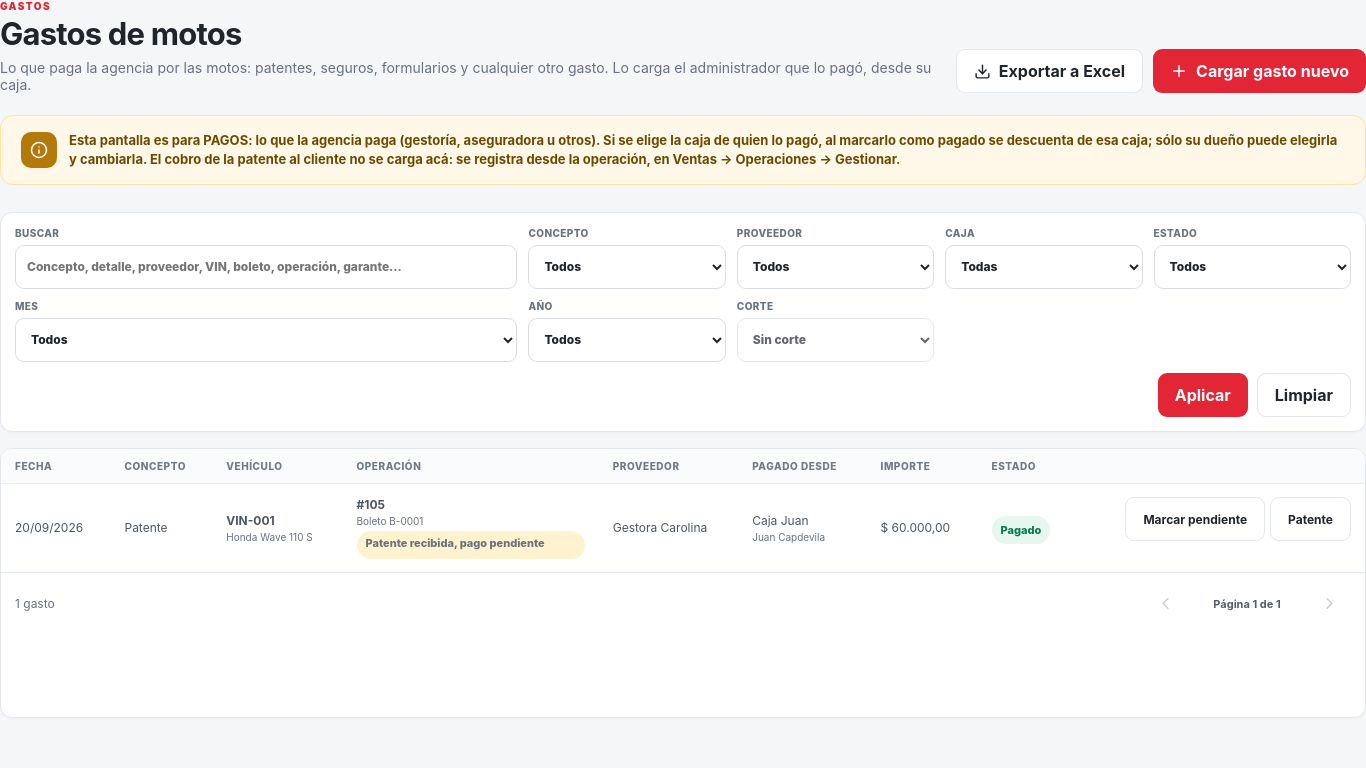
Scenario: Pagos de vehículo (fase 5) › abre la carga de patente de la operación desde la fila
Check: the table is shown, box [1,449,1365,572]
Click the button with aria-label "Patente de la operación #105" at coordinates (1311, 519), box [1270,497,1351,541]
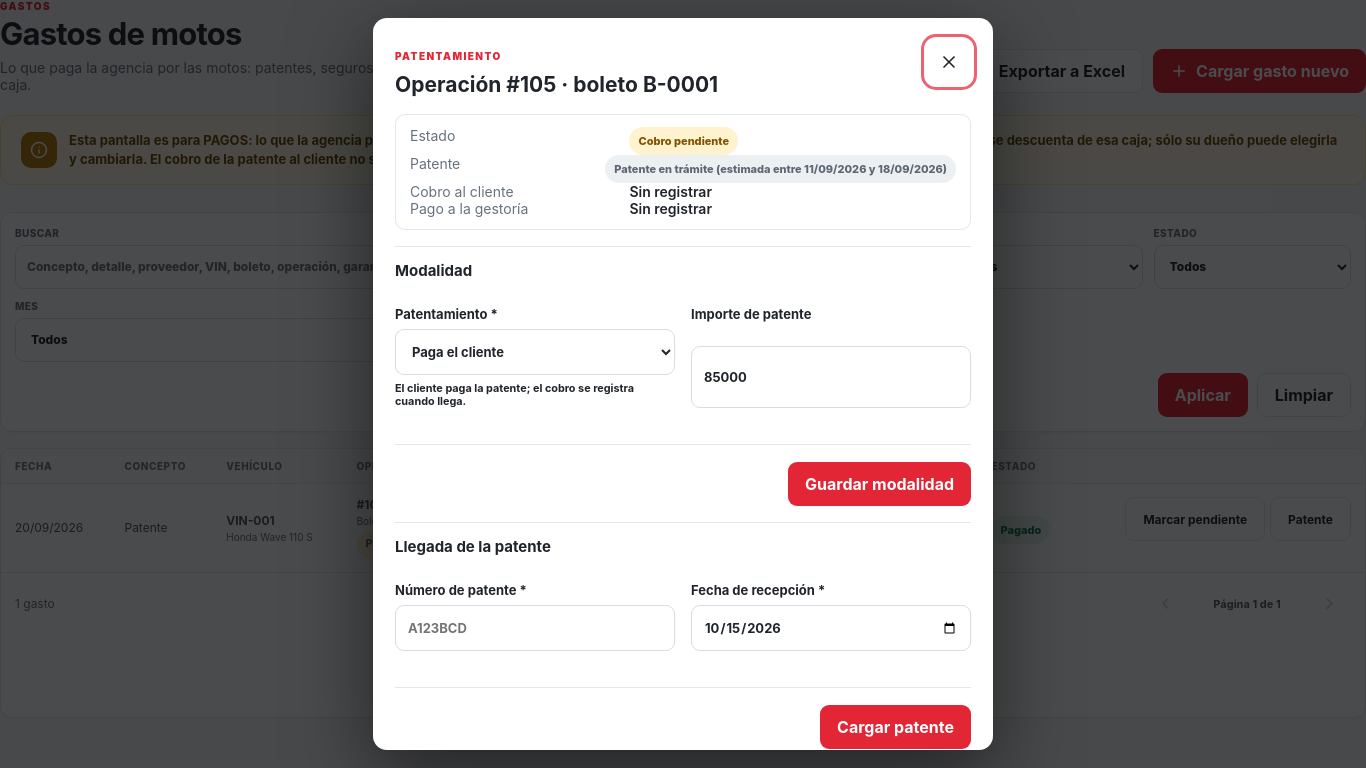
Check: the dialog "Operación #105 · boleto B-0001" is shown, box [373,18,993,750]
